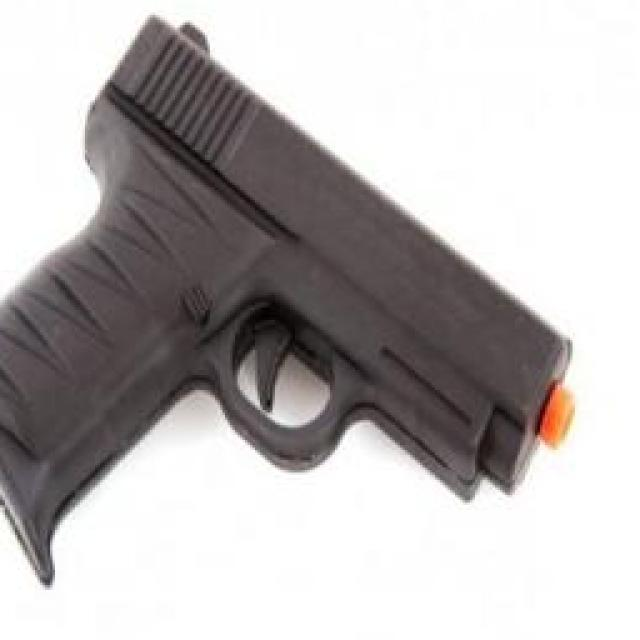pistol: (0, 15, 590, 605)
